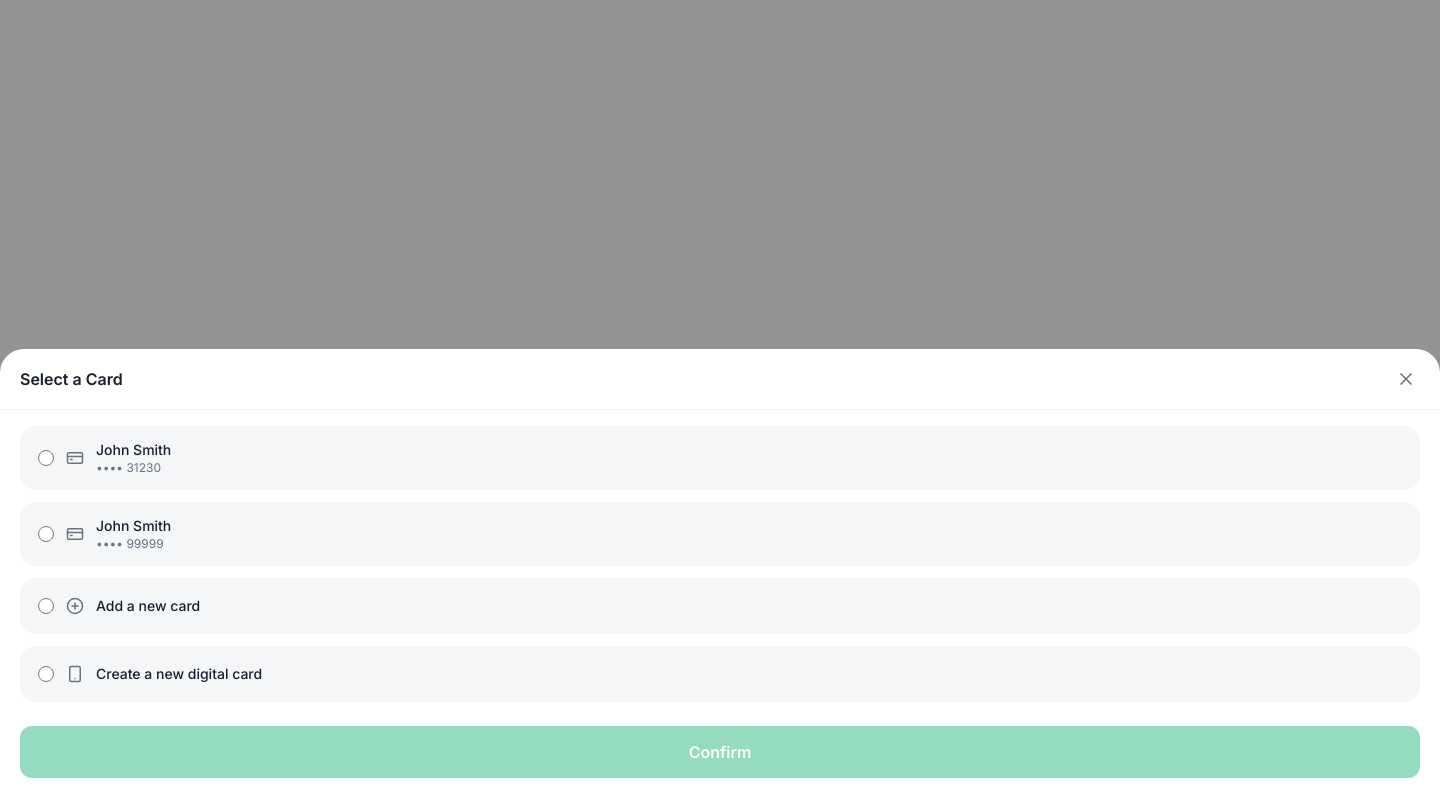
CardAssignModal — Add a new card form › switching to an existing card collapses the form
This screenshot has width=1440, height=810.
Click the radio button labelled "Add a new card": (46, 606) [38,598,54,614]
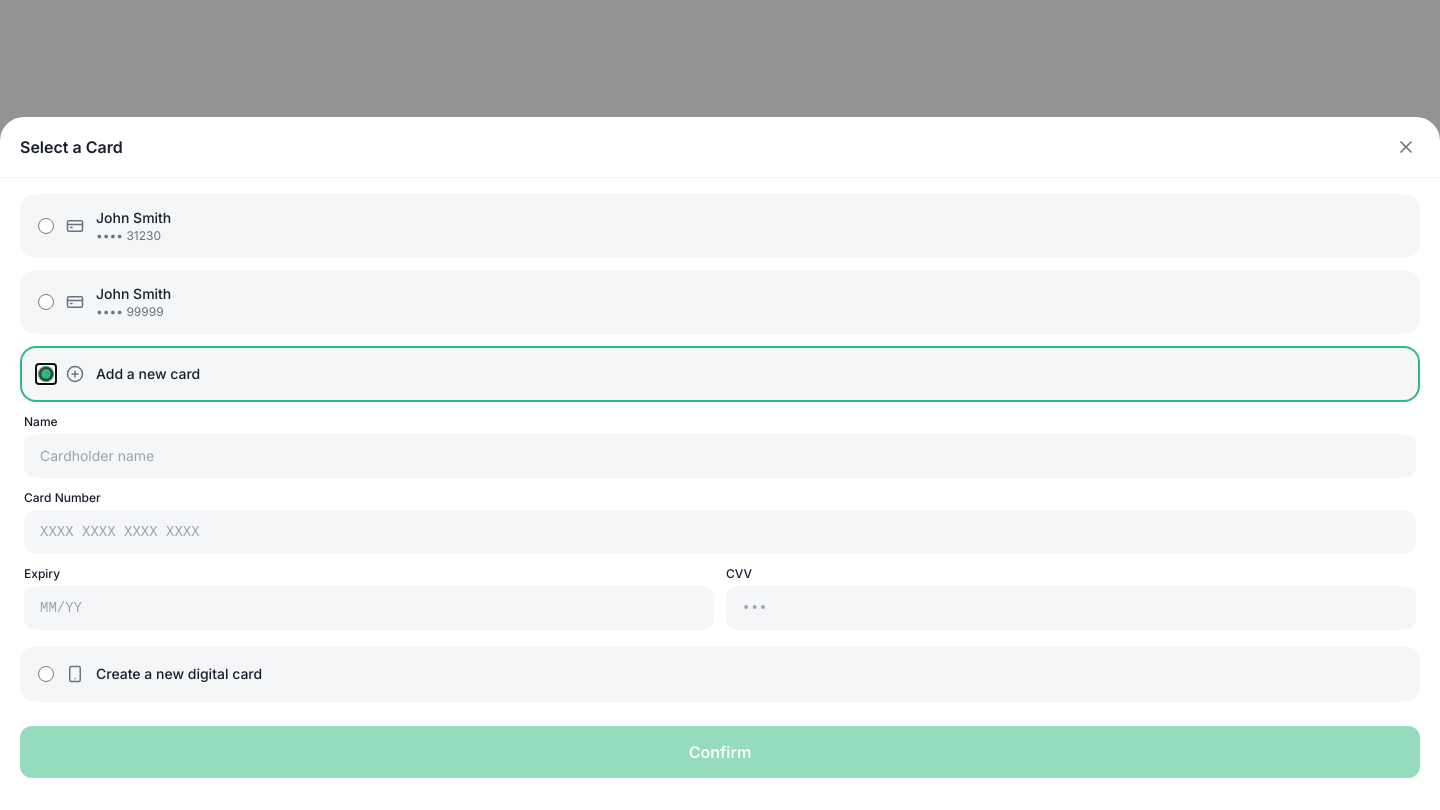
Click the radio button with aria-label "ending 31230": (46, 226) [38,218,54,234]
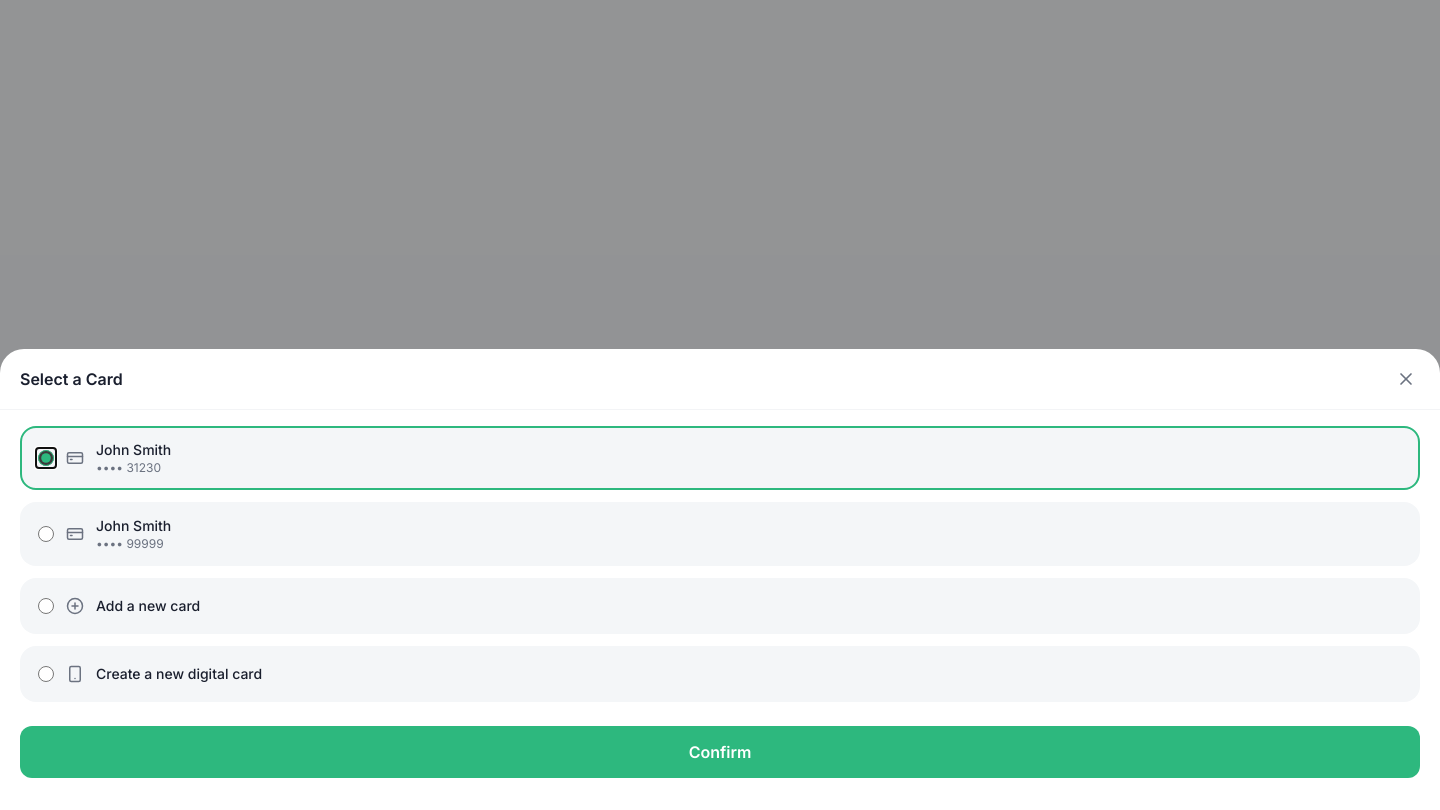
Expected: the label labelled "Name" is gone
